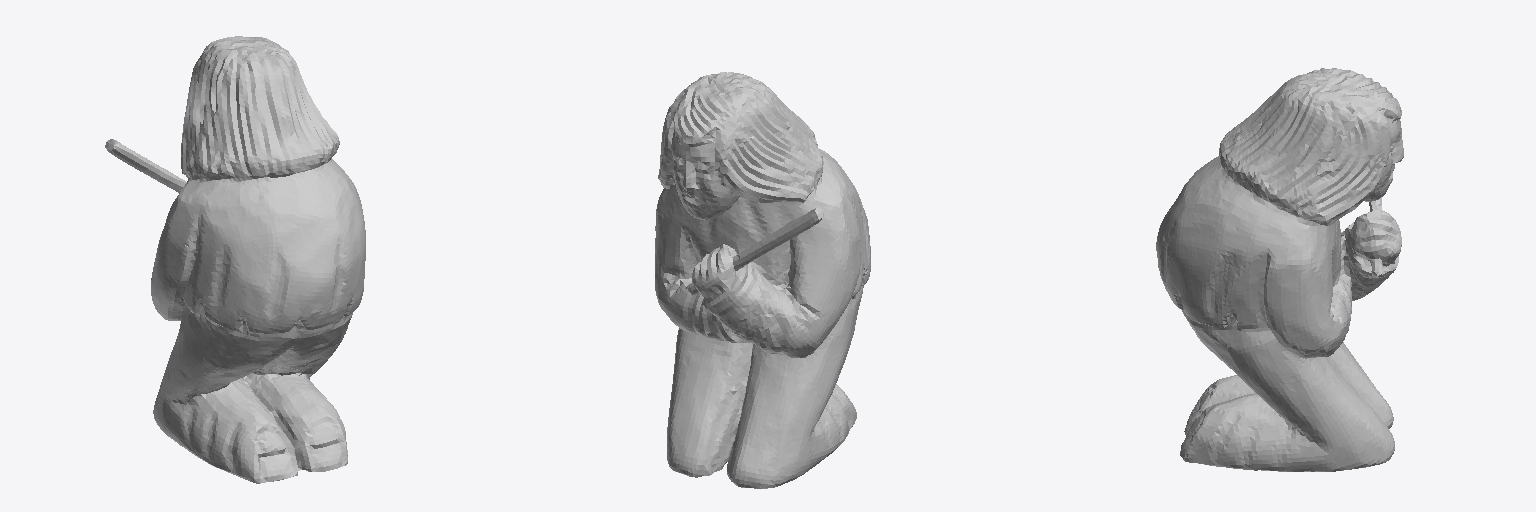
File: Hojda16.obj
3 renders of one model, left to right at view 1: azimuth 30°, elevation 25°; view 2: azimuth 150°, elevation 25°; view 3: azimuth 270°, elevation 25°, orthographic.
Parts seen in each view (by area): view 1: Hojda16_lowpoly; view 2: Hojda16_lowpoly; view 3: Hojda16_lowpoly.
Boxes of the visible parts, x1,y1,x2,y2 form: Hojda16_lowpoly: [105, 36, 365, 483]; Hojda16_lowpoly: [655, 72, 870, 488]; Hojda16_lowpoly: [1156, 68, 1403, 471].
Bounding box in the file's own units: 0.0672 × 0.1181 × 0.071.